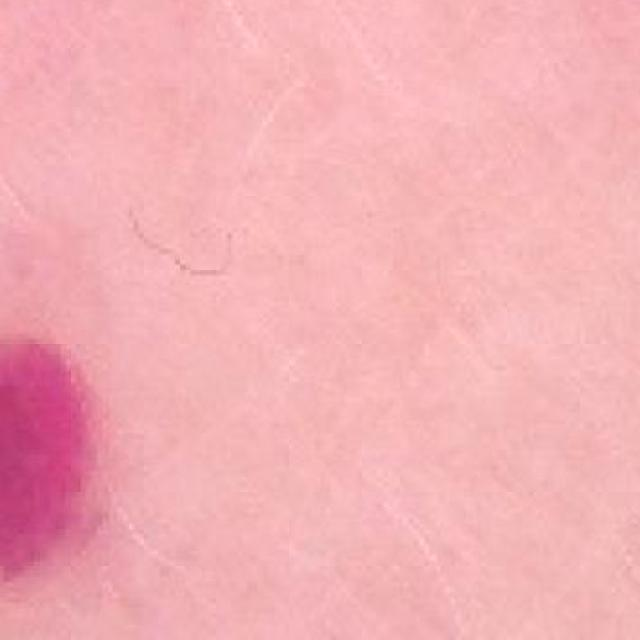VASC: (0, 216, 178, 640)
